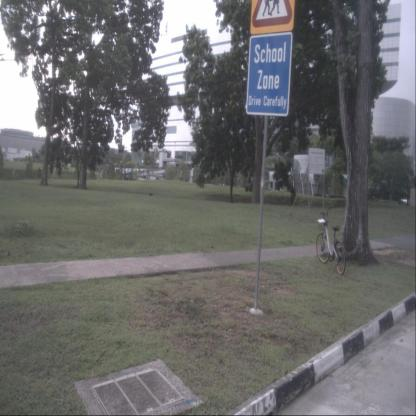vehicle-bicycle: (316, 205, 346, 276)
